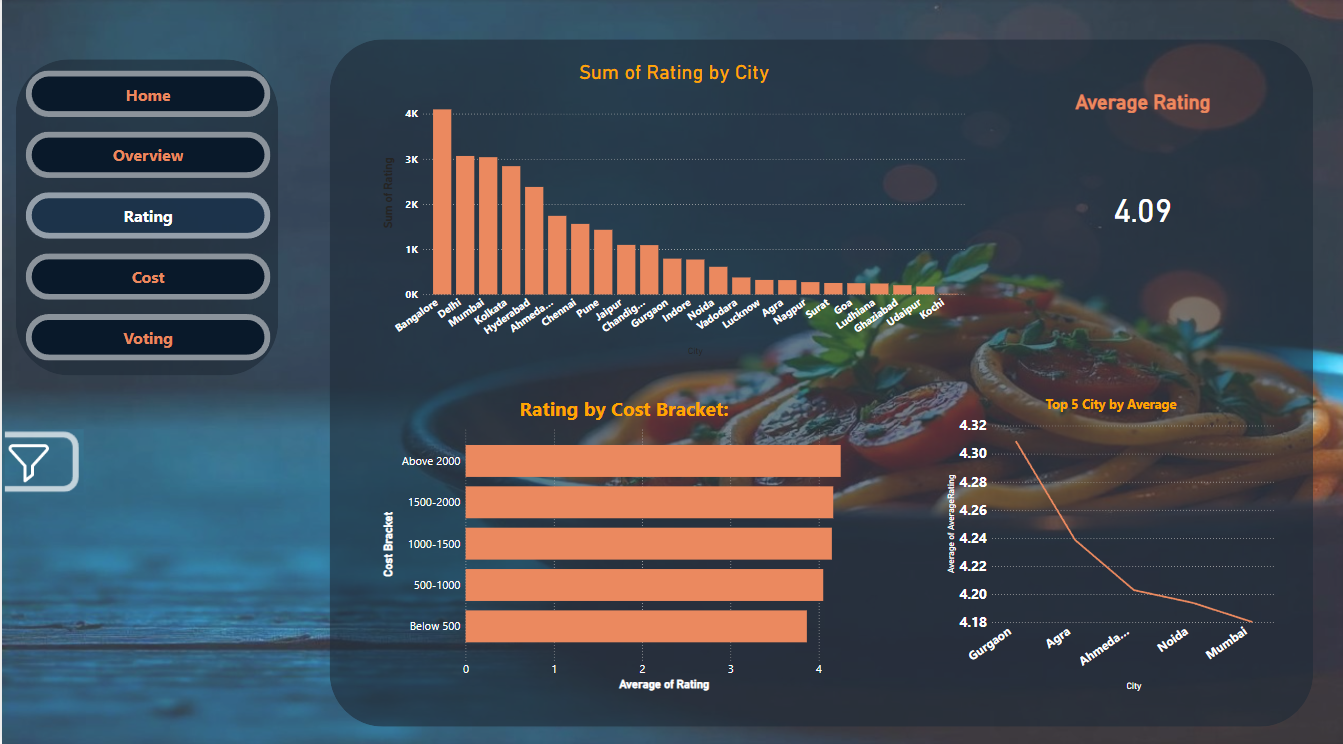

Layout of this report page (visuals, bound fields, positions):
{"tool":"powerbi","page":{"name":"Rating","canvas":[2250,1250],"ordinal":2},"visuals":[{"type":"shape","box":[548.8,69.1,1648.4,1152],"z":0},{"type":"card","title":"Average Rating","fields":{"Values":["Avg(Indian restaurants.Rating)"]},"box":[1695.7,155.3,430,350],"z":1000},{"type":"lineChart","title":"Top 5 City by Average","fields":{"Category":["AvgTop5City.City"],"Y":["Avg(AvgTop5City.AverageRating)"]},"box":[1576.6,666,561.7,500],"z":2000},{"type":"columnChart","fields":{"Category":["Indian restaurants.City"],"Y":["Sum(Indian restaurants.Rating)"]},"box":[629.8,104.3,991.5,500],"z":3000},{"type":"barChart","title":"Rating by Cost Bracket:","fields":{"Category":["Indian restaurants.Cost Bracket"],"Y":["Avg(Indian restaurants.Rating)"]},"box":[629.8,666,823.4,500],"z":4000},{"type":"image","box":[0,706.1,127.5,127.5],"z":5500},{"type":"image","box":[0,722.6,90.1,111],"z":6000},{"type":"shape","box":[22.2,103.5,440,530],"z":7000},{"type":"pageNavigator","box":[39,122.3,410.5,490.1],"z":8000}]}

Visuals, with their boxes in screenshot pixels (x1, y1, x2, y2), scaled from the page's 2250x1250 canvas onto the 1343x744 screenshot:
shape: [328, 41, 1311, 727]
"Average Rating" card: [1012, 92, 1269, 301]
"Top 5 City by Average" lineChart: [941, 396, 1276, 694]
columnChart - Indian restaurants.City x Sum(Indian restaurants.Rating): [376, 62, 968, 360]
"Rating by Cost Bracket:" barChart: [376, 396, 867, 694]
image: [0, 420, 76, 496]
image: [0, 430, 54, 496]
shape: [13, 62, 276, 377]
pageNavigator: [23, 73, 268, 365]
